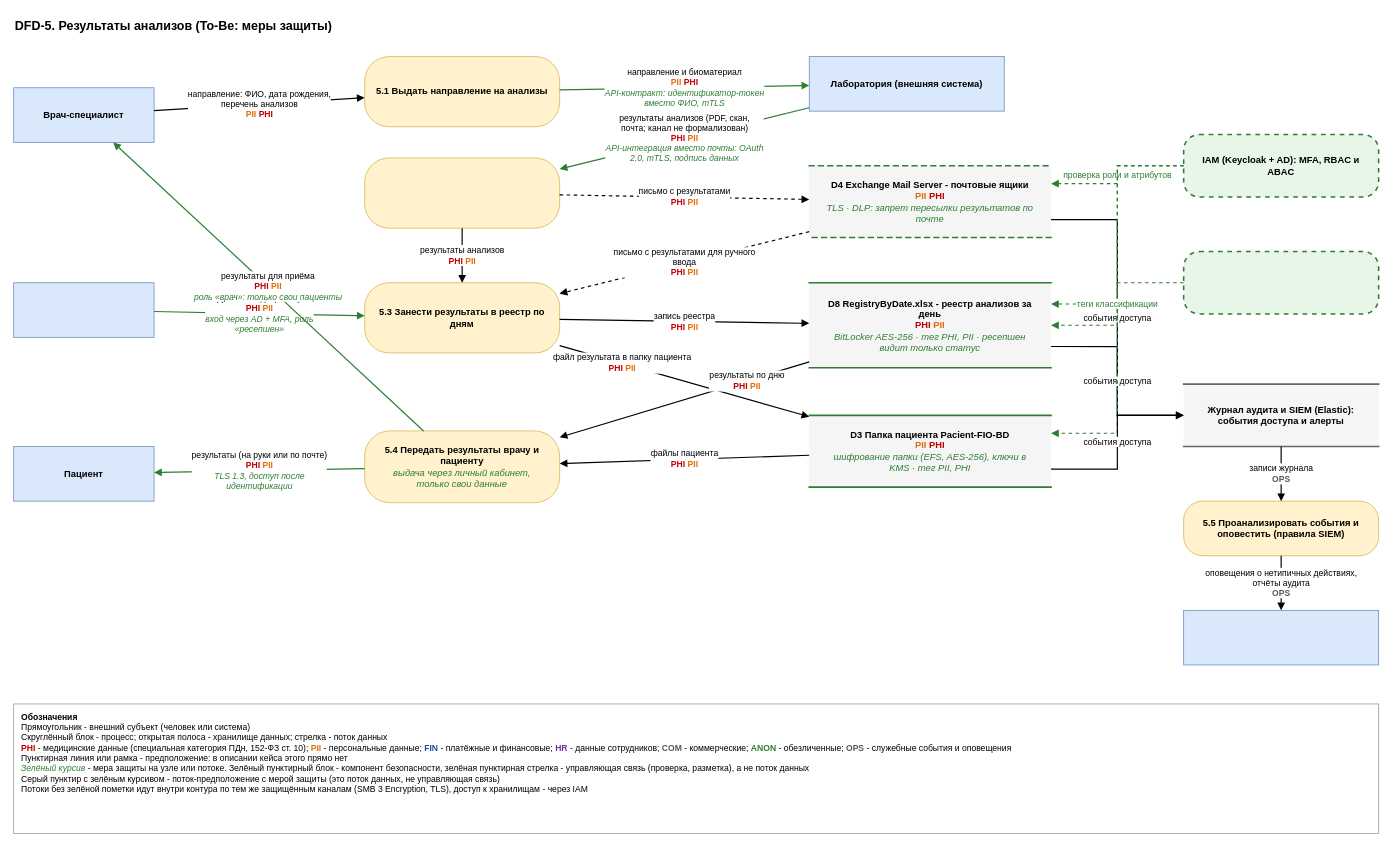
This 1393x847 diagram has some shape labels left out. Each missing label, with the box of its shape:
5.2 Получить результаты от лаборатории: (364, 157, 560, 228)
Администратор (ресепшен): (13, 282, 154, 337)
Каталог данных и теги (Apache Atlas): (1182, 250, 1379, 314)
Команда IT и ответственный за ПДн: (1183, 610, 1379, 665)
